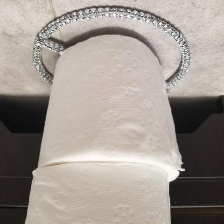tissue: (30, 29, 188, 189), (18, 156, 176, 224)
